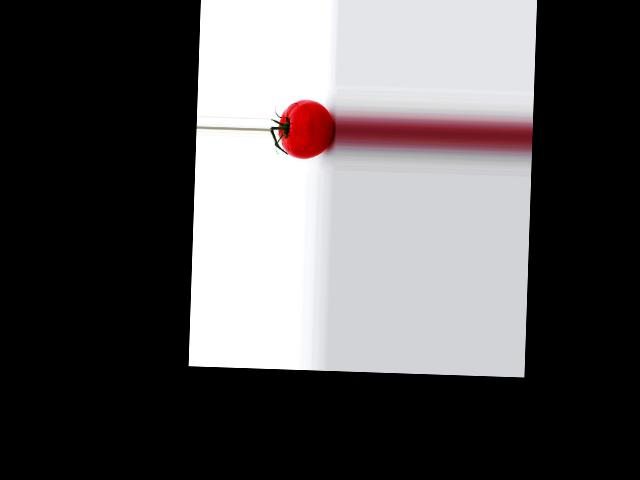tomato: (278, 98, 335, 159)
